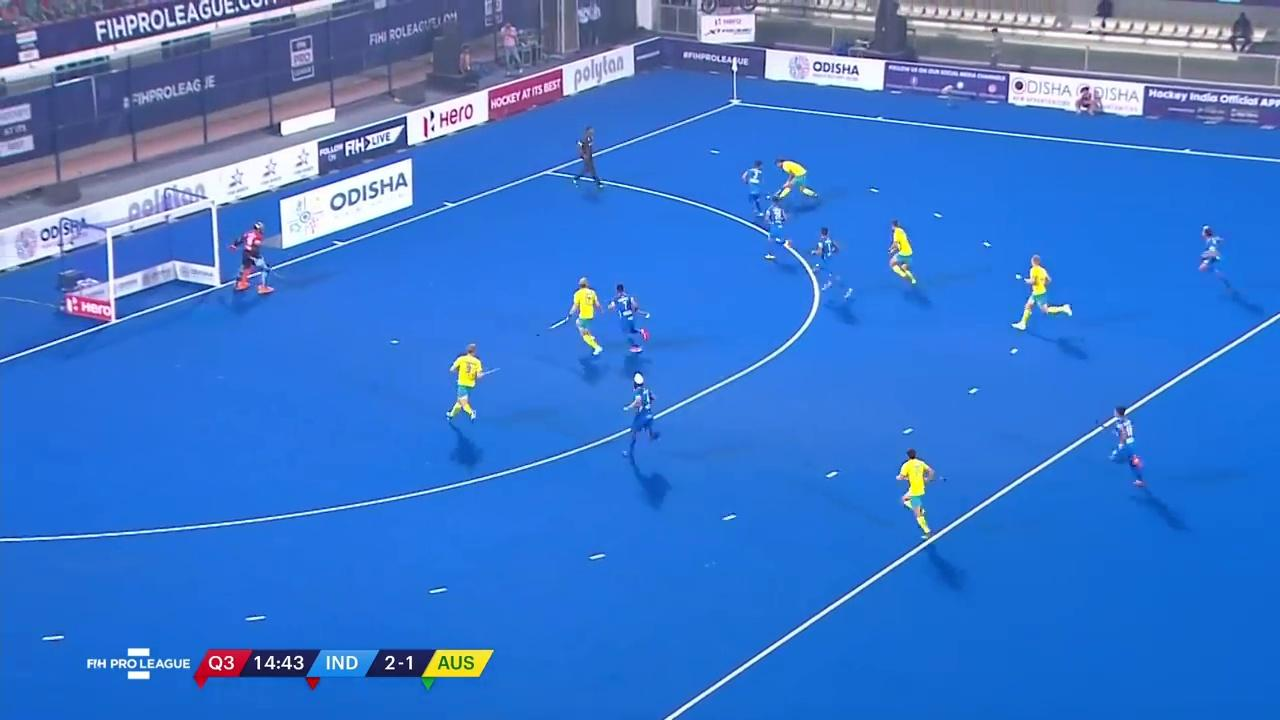ball: (764, 192, 773, 201)
